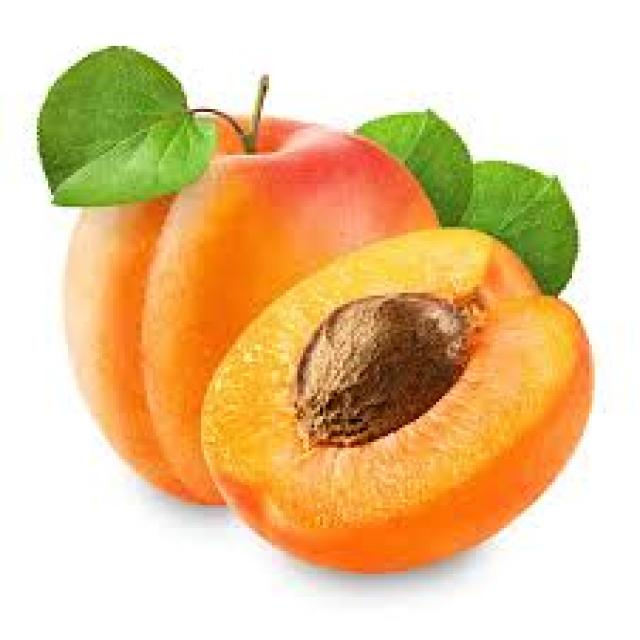cekirdek: (294, 293, 466, 442)
kayisi: (198, 236, 595, 574)
yaprak: (40, 40, 207, 200)
